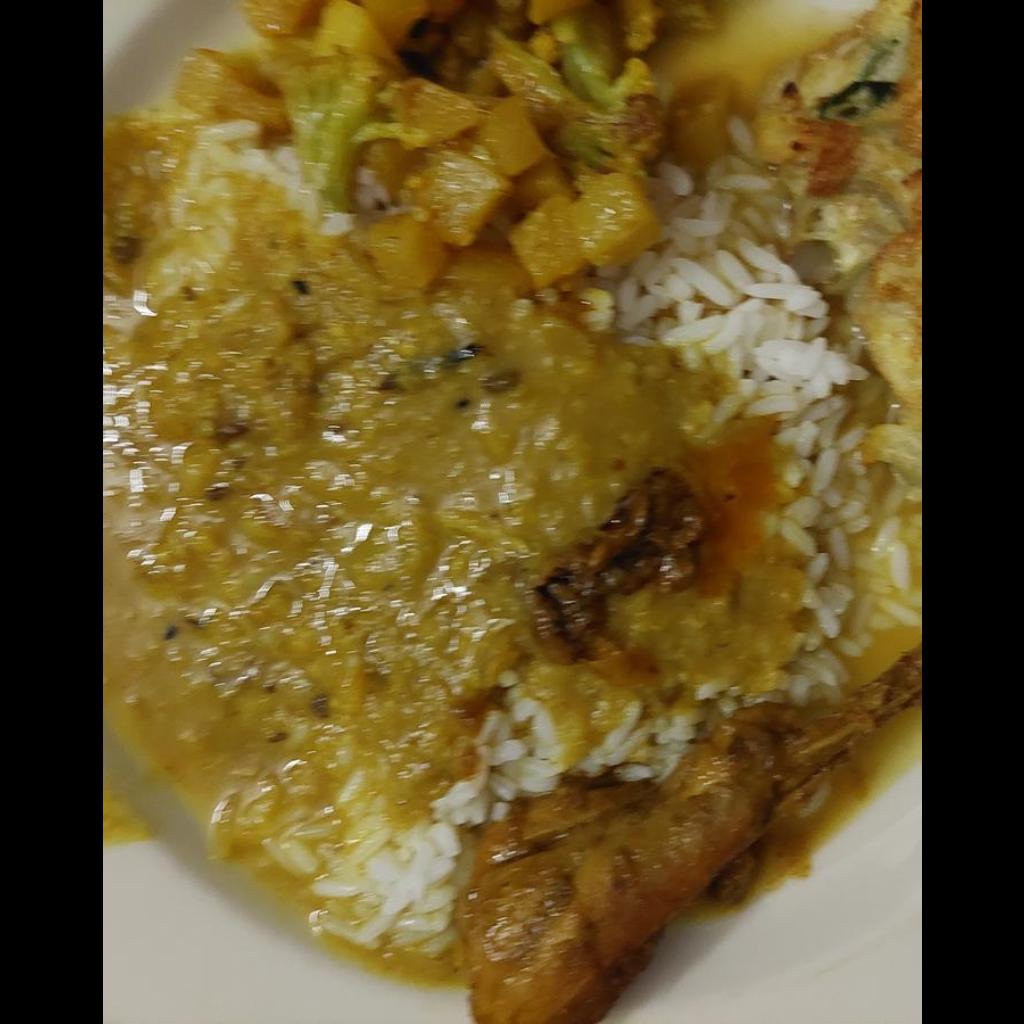chicken: (442, 629, 919, 1022)
daal: (102, 209, 772, 841)
